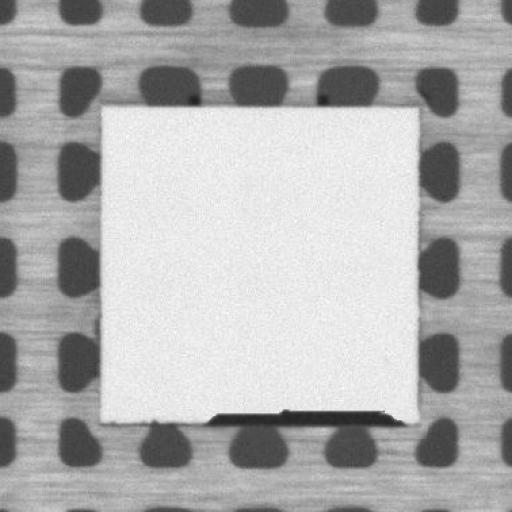DIE_BROKEN: (199, 405, 408, 430)
